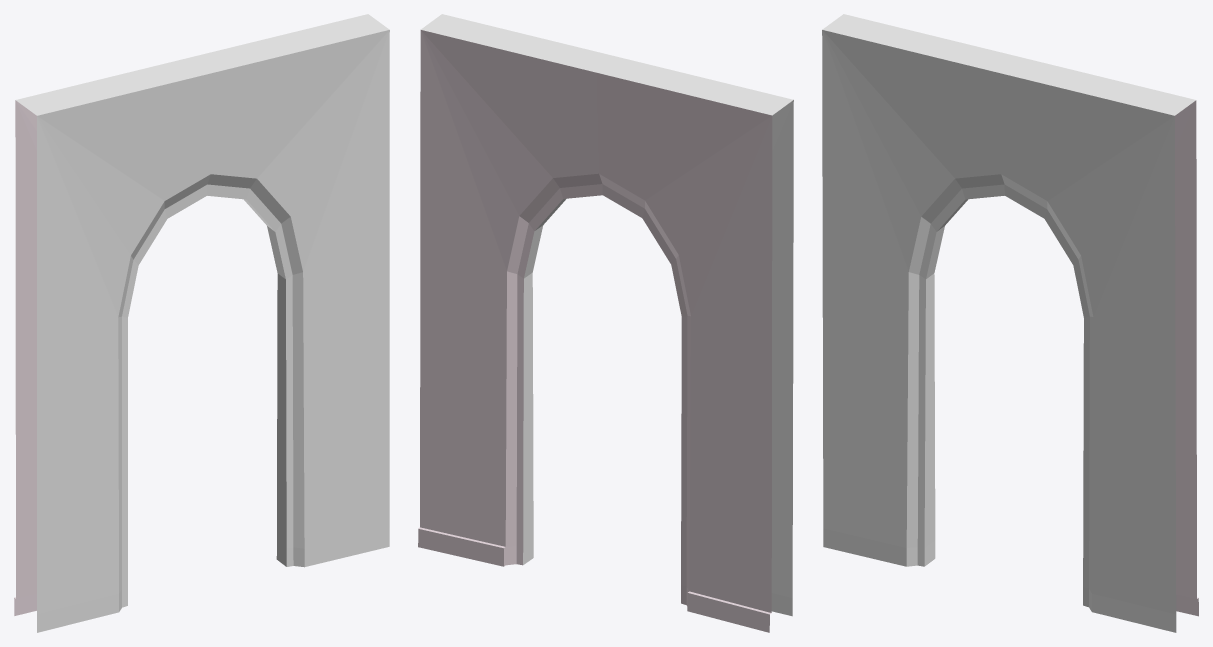
File: env_wall_arch_door_ext.fbx
3 renders of one model, left to right at view 1: azimuth 30°, elevation 25°; view 2: azimuth 150°, elevation 25°; view 3: azimuth 330°, elevation 25°, orthographic.
Parts seen in each view (by area): view 1: Casa pared arco marco puerta exterior; view 2: Casa pared arco marco puerta exterior; view 3: Casa pared arco marco puerta exterior.
Part boxes in pixels (box(x1,y1,x2,y2)): Casa pared arco marco puerta exterior: box(14, 14, 389, 632); Casa pared arco marco puerta exterior: box(418, 14, 793, 632); Casa pared arco marco puerta exterior: box(822, 14, 1198, 632).
Size of the model in its own units: 200 by 280 by 23.
Materials: 2 (2 with a texture image).
